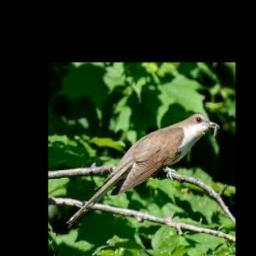Cuckoo: (66, 112, 219, 228)
